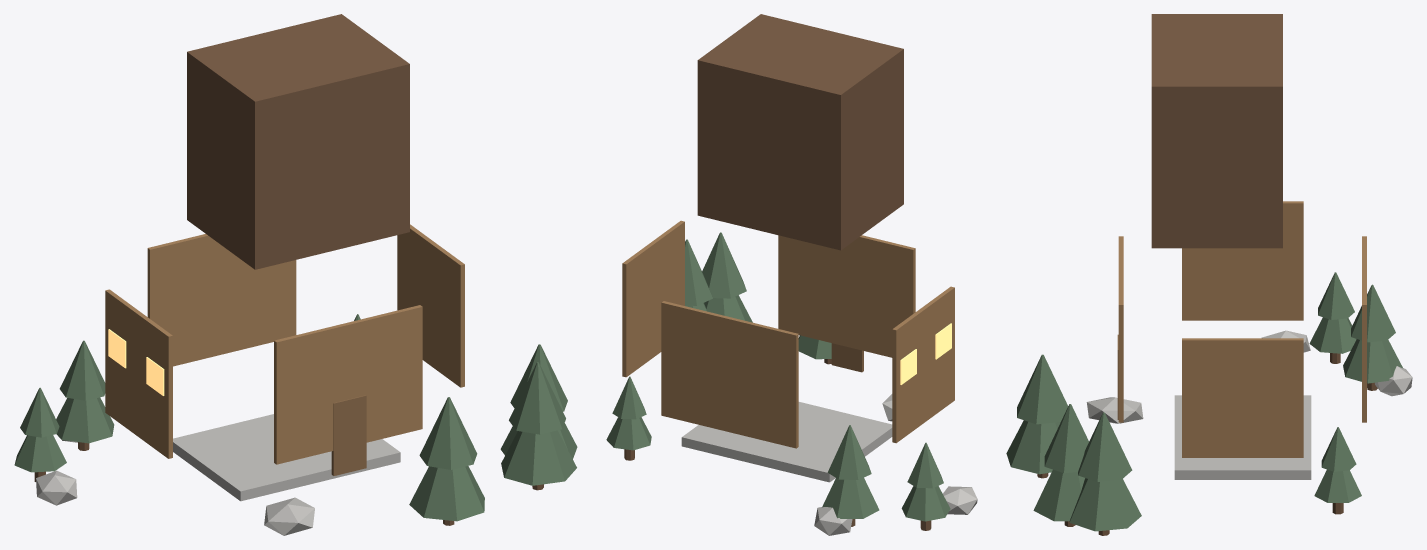
The model's file is maison_003_v1.glb.
3 renders of one model, left to right at view 1: azimuth 30°, elevation 25°; view 2: azimuth 150°, elevation 25°; view 3: azimuth 270°, elevation 25°, orthographic. The views are drawn at different scales.
Visible parts, largest first — view 1: maison; view 2: maison; view 3: maison.
Boxes of the visible parts, <box> form: maison: <box>14,14,577,535</box>; maison: <box>606,14,977,535</box>; maison: <box>1006,14,1412,535</box>.
Bounding box in the file's own units: 6.01 × 5.51 × 5.01.
